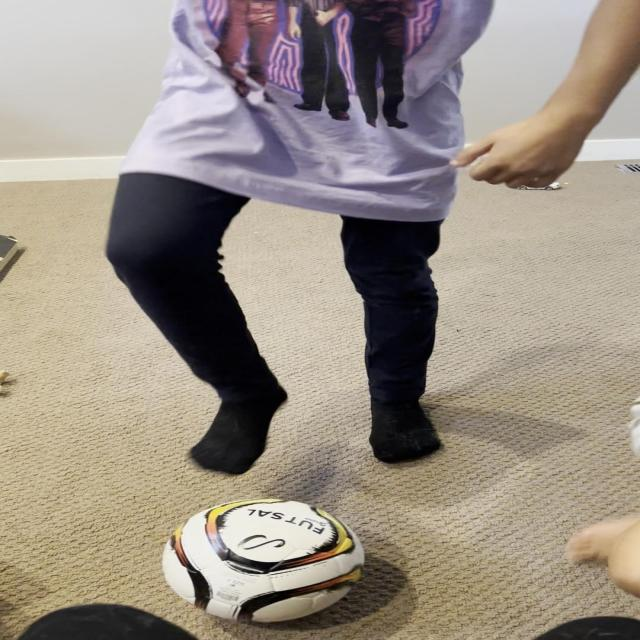Soccer Ball: (162, 498, 365, 623)
